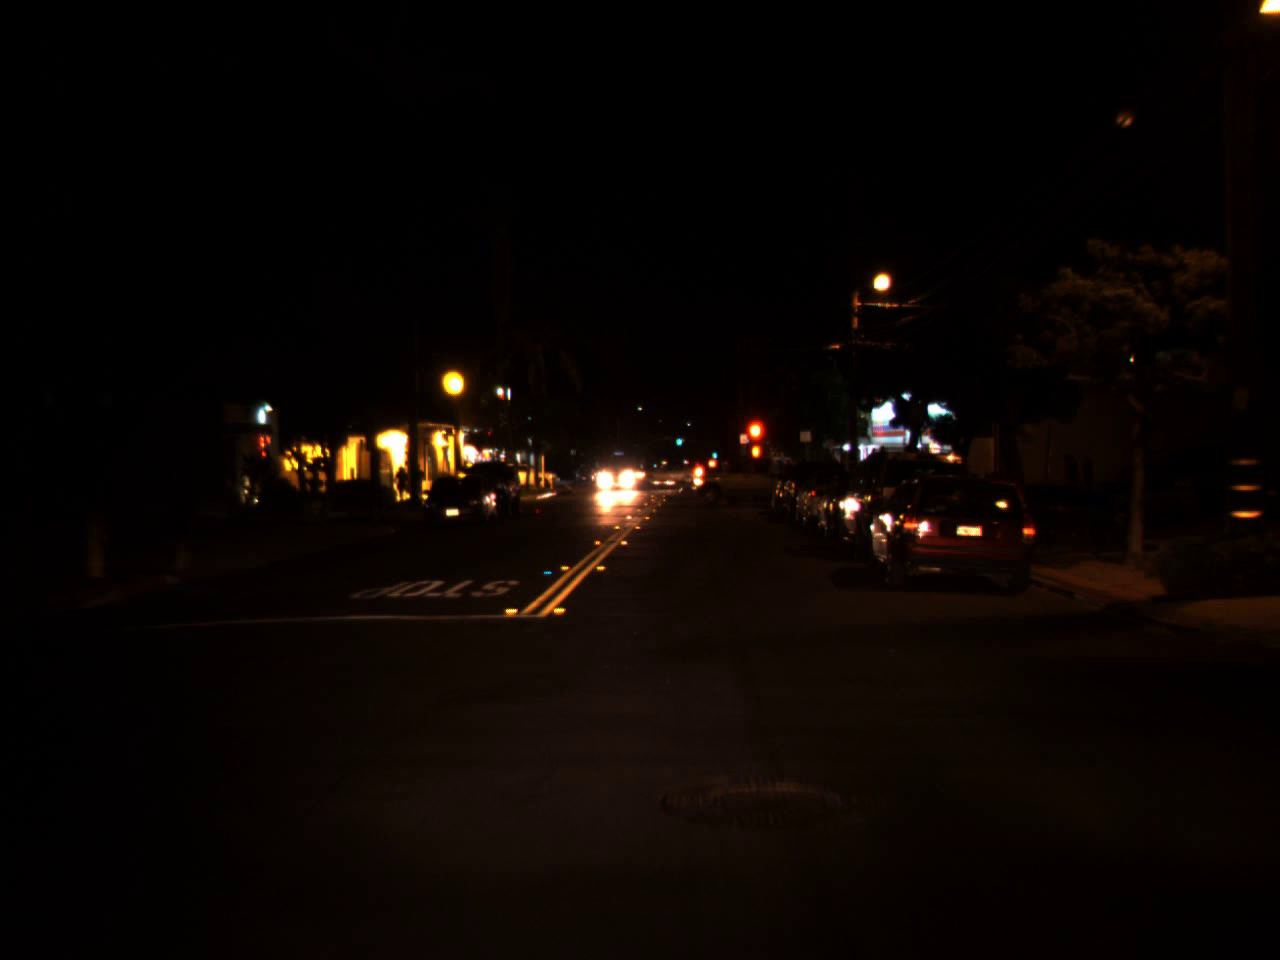go: (675, 431, 684, 446), (710, 445, 719, 460)
stop: (742, 417, 767, 465)
